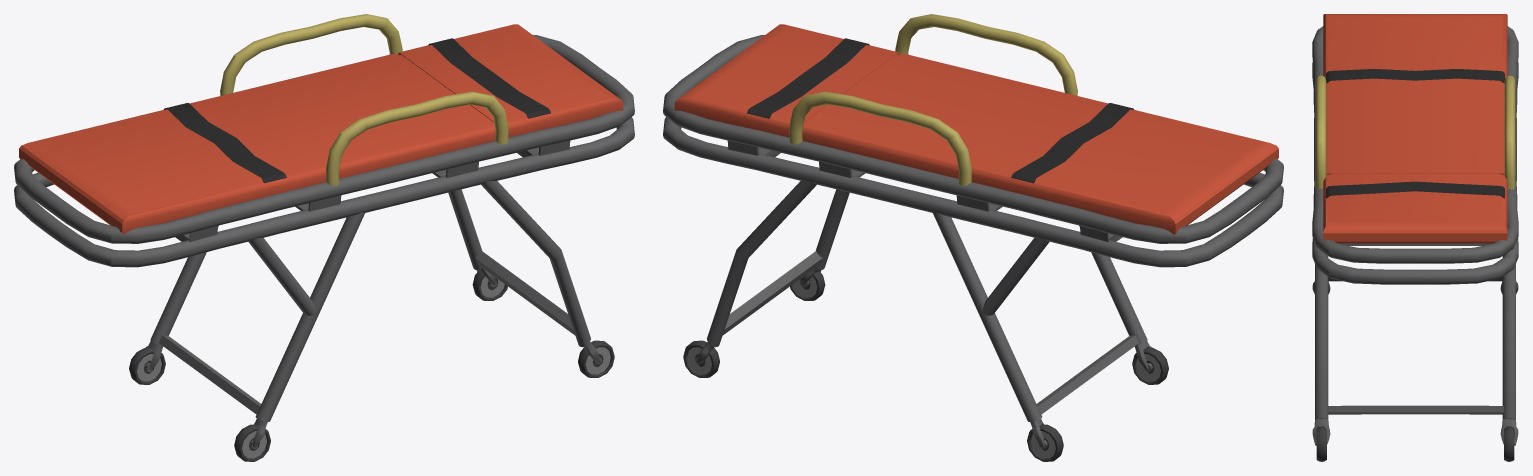
The model's file is sedye.fbx.
The picture shows the model from 3 angles, left to right: view 1: azimuth 30°, elevation 25°; view 2: azimuth 150°, elevation 25°; view 3: azimuth 270°, elevation 25°; orthographic projection. The views are drawn at different scales.
Parts seen in each view (by area): view 1: stretcher, wheel2, wheel1, wheel3, wheel4; view 2: stretcher, wheel1, wheel2, wheel4, wheel3; view 3: stretcher, wheel3, wheel4.
Boxes of the visible parts, box(x1,y1,x2,y2) form: stretcher: box(14, 14, 634, 448); wheel2: box(129, 347, 165, 384); wheel1: box(234, 424, 270, 461); wheel3: box(578, 340, 614, 377); wheel4: box(472, 271, 507, 300); stretcher: box(663, 14, 1283, 448); wheel1: box(1132, 347, 1168, 384); wheel2: box(1027, 424, 1063, 461); wheel4: box(683, 340, 719, 377); wheel3: box(790, 271, 825, 300); stretcher: box(1312, 14, 1518, 445); wheel3: box(1316, 426, 1326, 461); wheel4: box(1504, 426, 1514, 461).
Bounding box in the file's own units: 629 × 345 × 228.
